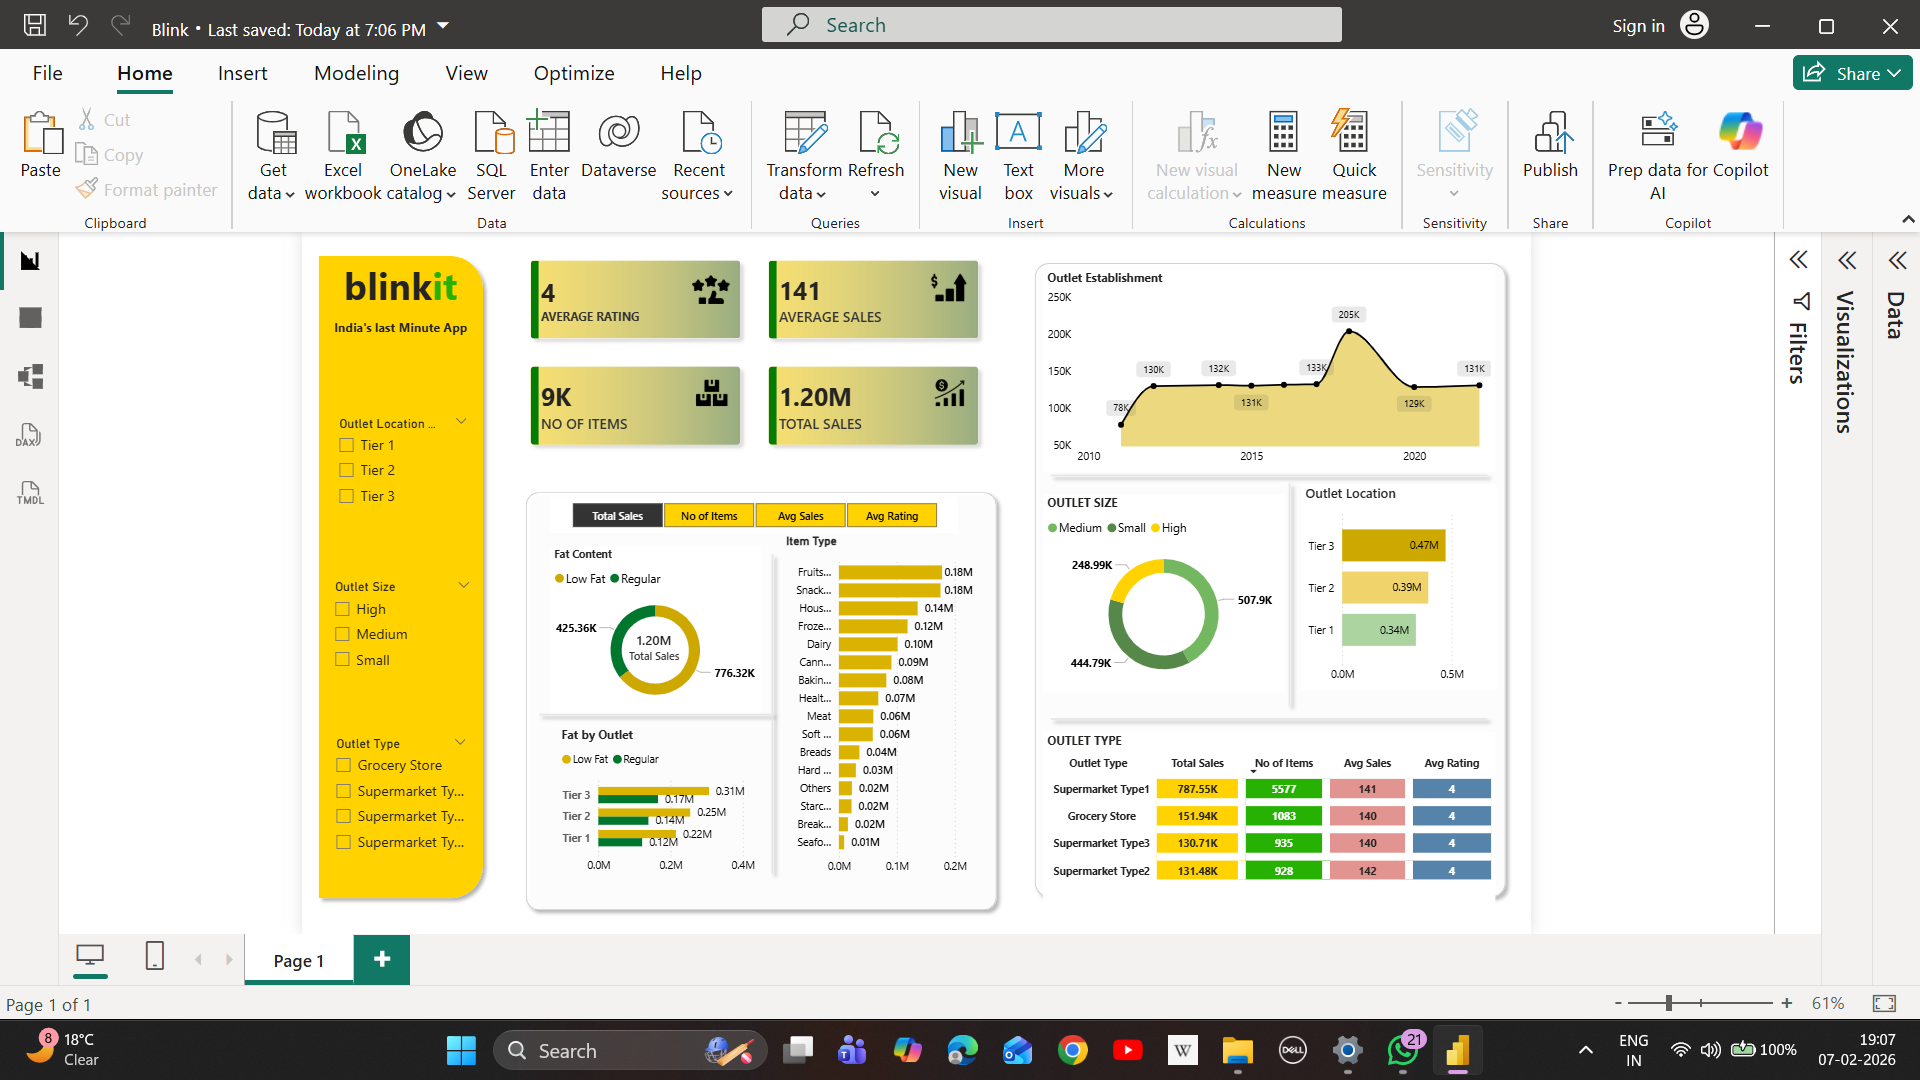

The dashboard page shown, as its layout file describes it:
{"tool":"powerbi","page":{"name":"Page 1","canvas":[1400,800],"ordinal":0},"visuals":[{"type":"shape","box":[9.7,17.4,205.3,749.6],"z":0},{"type":"textbox","box":[32.9,27.1,158.8,67.8],"z":1000},{"type":"textbox","box":[9.7,94.9,205.3,40.7],"z":2000},{"type":"cardVisual","fields":{"Data":["BlinkIT Grocery Data.Average Rating","BlinkIT Grocery Data.Average Sales","BlinkIT Grocery Data.No of Items","BlinkIT Grocery Data.Total Sales"]},"box":[230.5,3.9,569.5,269.2],"z":3000},{"type":"shape","box":[246,286.7,554,493.9],"z":4000},{"type":"donutChart","title":" Fat Content","fields":{"Y":["BlinkIT Grocery Data.Avg Rating"],"Category":["BlinkIT Grocery Data.Item Fat Content"]},"box":[282.8,358.3,240.2,189.8],"z":5000},{"type":"slicer","fields":{"Values":["Metric.Metric"]},"box":[282.8,302.2,464.9,40.7],"z":6000},{"type":"cardVisual","fields":{"Data":["BlinkIT Grocery Data.Avg Rating"]},"box":[339,422.3,125.9,98.8],"z":7000},{"type":"clusteredBarChart","title":"Fat by Outlet","fields":{"Y":["BlinkIT Grocery Data.Avg Rating"],"Category":["BlinkIT Grocery Data.Outlet Location Type"],"Series":["BlinkIT Grocery Data.Item Fat Content"]},"box":[290.6,563.7,232.4,176.3],"z":8000},{"type":"shape","box":[261.5,534.6,284.7,29.1],"z":9000},{"type":"shape","box":[524.9,358.3,21.3,381.6],"z":10000},{"type":"barChart","title":"Item Type","fields":{"Y":["BlinkIT Grocery Data.Avg Rating"],"Category":["BlinkIT Grocery Data.Item Type"]},"box":[546.2,342.8,236.3,397.1],"z":11000},{"type":"shape","box":[825.2,27.1,554,739.9],"z":12000},{"type":"lineChart","title":" Outlet Establishment ","fields":{"Category":["BlinkIT Grocery Data.Outlet Establishment Year"],"Y":["BlinkIT Grocery Data.Total Sales"]},"box":[844.5,42.6,515.2,230.5],"z":13000},{"type":"shape","box":[844.5,267.3,515.2,19.4],"z":14000},{"type":"donutChart","title":"OUTLET SIZE","fields":{"Y":["BlinkIT Grocery Data.Total Sales"],"Category":["BlinkIT Grocery Data.Outlet Size"]},"box":[844.5,298.3,275,225],"z":15000},{"type":"barChart","title":"Outlet Location","fields":{"Category":["BlinkIT Grocery Data.Outlet Location Type"],"Y":["BlinkIT Grocery Data.Total Sales"]},"box":[1137,286.7,222.8,234.4],"z":16000},{"type":"shape","box":[844.5,544.3,515.2,19.4],"z":17000},{"type":"pivotTable","title":"OUTLET TYPE","fields":{"Rows":["BlinkIT Grocery Data.Outlet Type"],"Values":["BlinkIT Grocery Data.Total Sales","BlinkIT Grocery Data.No of Items","BlinkIT Grocery Data.Avg Sales","BlinkIT Grocery Data.Avg Rating"]},"box":[844.5,569.5,515.2,197.6],"z":18000},{"type":"shape","box":[1113.8,277,23.2,271.2],"z":19000},{"type":"slicer","fields":{"Values":["BlinkIT Grocery Data.Outlet Location Type"]},"box":[28.1,237.8,170.1,72.7],"z":20000},{"type":"slicer","fields":{"Values":["BlinkIT Grocery Data.Outlet Size"]},"box":[26.4,381.4,178.3,61.1],"z":21000},{"type":"slicer","fields":{"Values":["BlinkIT Grocery Data.Outlet Type"]},"box":[28.1,531.7,173.4,62.7],"z":22000}]}

Visuals, with their boxes on the page's 1400x800 design canvas (x1, y1, x2, y2). These are canvas units, not pixel positions in the 1920x1080 screenshot, which may show the page scaled, cropped or inside an application window:
shape: box(10, 17, 215, 767)
textbox: box(33, 27, 192, 95)
textbox: box(10, 95, 215, 136)
cardVisual - BlinkIT Grocery Data.Average Rating x BlinkIT Grocery Data.Average Sales: box(230, 4, 800, 273)
shape: box(246, 287, 800, 781)
" Fat Content" donutChart: box(283, 358, 523, 548)
slicer - Metric.Metric: box(283, 302, 748, 343)
cardVisual - BlinkIT Grocery Data.Avg Rating: box(339, 422, 465, 521)
"Fat by Outlet" clusteredBarChart: box(291, 564, 523, 740)
shape: box(262, 535, 546, 564)
shape: box(525, 358, 546, 740)
"Item Type" barChart: box(546, 343, 782, 740)
shape: box(825, 27, 1379, 767)
" Outlet Establishment " lineChart: box(844, 43, 1360, 273)
shape: box(844, 267, 1360, 287)
"OUTLET SIZE" donutChart: box(844, 298, 1120, 523)
"Outlet Location" barChart: box(1137, 287, 1360, 521)
shape: box(844, 544, 1360, 564)
"OUTLET TYPE" pivotTable: box(844, 570, 1360, 767)
shape: box(1114, 277, 1137, 548)
slicer - BlinkIT Grocery Data.Outlet Location Type: box(28, 238, 198, 310)
slicer - BlinkIT Grocery Data.Outlet Size: box(26, 381, 205, 442)
slicer - BlinkIT Grocery Data.Outlet Type: box(28, 532, 202, 594)
